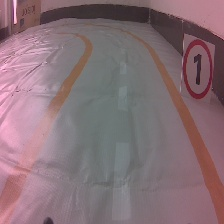limit: (180, 31, 217, 106)
